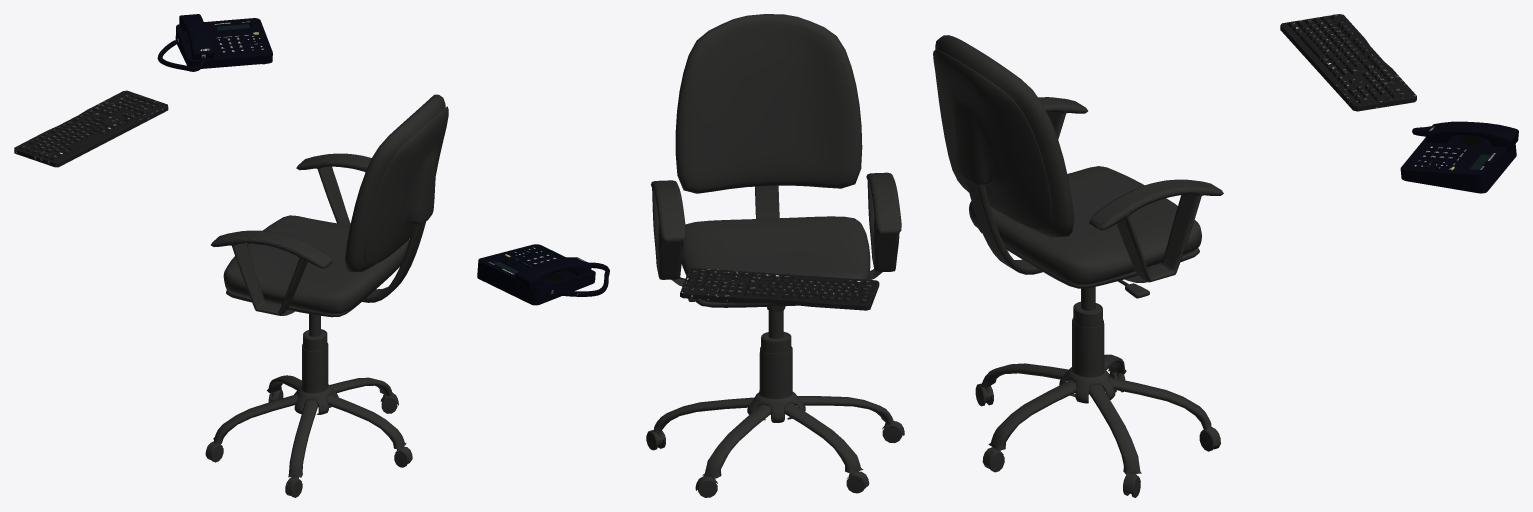
File: postazioniparte6.gltf
3 renders of one model, left to right at view 1: azimuth 30°, elevation 25°; view 2: azimuth 150°, elevation 25°; view 3: azimuth 270°, elevation 25°, orthographic. The views are drawn at different scales.
Parts seen in each view (by area): view 1: Ciro Sedia, Ciro Tastiera, Ciro Telefono; view 2: Ciro Sedia, Ciro Tastiera, Ciro Telefono; view 3: Ciro Sedia, Ciro Tastiera, Ciro Telefono.
Part boxes in pixels (x1,y1,x2,y2): Ciro Sedia: [205, 94, 448, 497]; Ciro Tastiera: [14, 90, 168, 167]; Ciro Telefono: [157, 14, 272, 71]; Ciro Sedia: [646, 14, 904, 497]; Ciro Tastiera: [680, 268, 879, 310]; Ciro Telefono: [477, 244, 609, 305]; Ciro Sedia: [933, 35, 1223, 497]; Ciro Tastiera: [1280, 14, 1416, 111]; Ciro Telefono: [1400, 121, 1518, 193].
Bounding box in the file's own units: 0.8889 × 1.01 × 1.25.
Materials: 4 (3 with a texture image).
